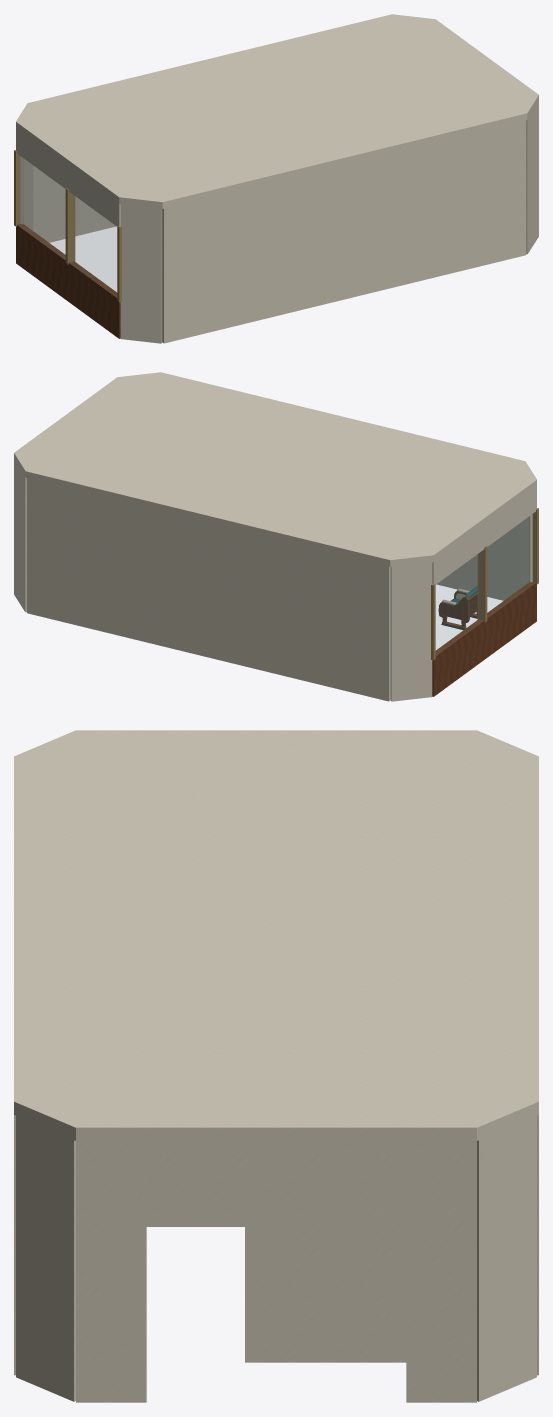
The model's file is D04_PORT_FORWARD_HOME_886_r001.glb.
3 views of the same model, one above another, from view 1: azimuth 30°, elevation 25°; view 2: azimuth 150°, elevation 25°; view 3: azimuth 270°, elevation 25° (orthographic). The views are drawn at different scales.
Visible parts, largest first — view 1: D04H886_Roof, D04H886_Shell_3, D04H886_GardenGlass, D04H886_Shell_2, D04H886_GardenDado, D04H886_Shell_7, D04H886_GardenHead, D04H886_Shell_4, D04H886_Shell_0, D04H886_WindowMullion_1, D04H886_WindowMullion_0; view 2: D04H886_Roof, D04H886_Shell_7, D04H886_GardenGlass, D04H886_Shell_0, D04H886_GardenDado, D04H886_Shell_3, D04H886_GardenHead, D04H886_Shell_6, D04H886_Shell_2, D04H886_WindowMullion_1, D04H886_WindowMullion_2, D04H886_ReadingChair__DAY_CHAIR_R_swept_walnut_cheek; view 3: D04H886_Roof, D04H886_EntryHeader, D04H886_BathDogleg, D04H886_EntryWall_0, D04H886_EntryWall_1, D04H886_Shell_4, D04H886_Shell_6, D04H886_BathScreen.
Boxes of the visible parts, <box> form: D04H886_Roof: <box>16,14,538,208</box>; D04H886_Shell_3: <box>162,120,525,343</box>; D04H886_GardenGlass: <box>18,158,116,296</box>; D04H886_Shell_2: <box>120,204,162,343</box>; D04H886_GardenDado: <box>16,224,120,338</box>; D04H886_Shell_7: <box>33,165,116,242</box>; D04H886_GardenHead: <box>16,129,120,226</box>; D04H886_Shell_4: <box>526,102,538,254</box>; D04H886_Shell_0: <box>20,156,33,230</box>; D04H886_WindowMullion_1: <box>65,188,75,264</box>; D04H886_WindowMullion_0: <box>14,150,23,226</box>; D04H886_Roof: <box>14,372,536,566</box>; D04H886_Shell_7: <box>27,478,390,701</box>; D04H886_GardenGlass: <box>436,516,529,653</box>; D04H886_Shell_0: <box>390,562,432,701</box>; D04H886_GardenDado: <box>432,582,536,696</box>; D04H886_Shell_3: <box>436,523,519,600</box>; D04H886_GardenHead: <box>432,487,536,584</box>; D04H886_Shell_6: <box>14,460,26,612</box>; D04H886_Shell_2: <box>519,514,532,588</box>; D04H886_WindowMullion_1: <box>477,546,487,622</box>; D04H886_WindowMullion_2: <box>529,508,538,584</box>; D04H886_ReadingChair__DAY_CHAIR_R_swept_walnut_cheek: <box>438,596,469,622</box>; D04H886_Roof: <box>14,730,538,1140</box>; D04H886_EntryHeader: <box>146,1141,406,1226</box>; D04H886_BathDogleg: <box>245,1227,406,1362</box>; D04H886_EntryWall_0: <box>406,1141,476,1402</box>; D04H886_EntryWall_1: <box>76,1141,146,1402</box>; D04H886_Shell_4: <box>16,1116,75,1401</box>; D04H886_Shell_6: <box>477,1116,536,1401</box>; D04H886_BathScreen: <box>245,1227,258,1362</box>.
Size of the model in its own units: 12.92 by 4.16 by 7.2.
Materials: 35 (20 with a texture image).
